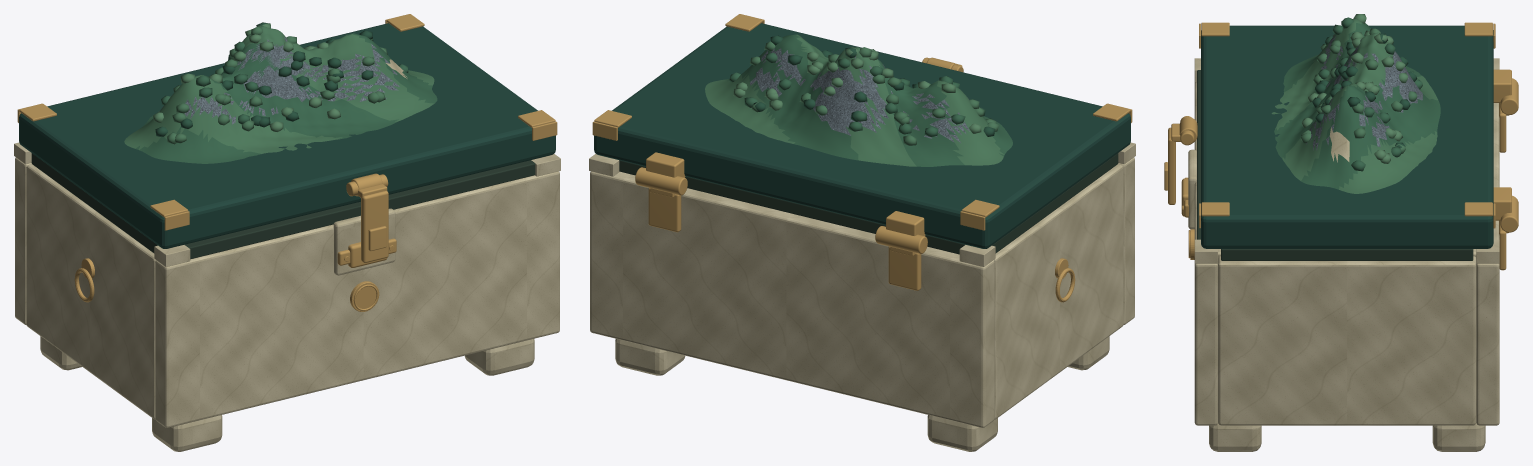
File: jamaica.glb
3 views of the same model, side by side, from view 1: azimuth 30°, elevation 25°; view 2: azimuth 150°, elevation 25°; view 3: azimuth 270°, elevation 25° (orthographic).
Visible parts, largest first — view 1: Limestone / long wall, Lid / polished slab, Terrain / Blue and John Crow relief, Limestone / end wall, Mineral seam / long, Limestone / long wall.001, Limestone / carved foot, Limestone / carved foot.002, Latch / lifting hasp, Limestone / clasp seat, Mineral seam / side, Limestone / rim corner (+2 smaller); view 2: Limestone / long wall.001, Lid / polished slab, Limestone / end wall, Terrain / Blue and John Crow relief, Mineral seam / long.001, Limestone / long wall, Limestone / carved foot.001, Limestone / carved foot.003, Mineral seam / side, Hinge / fixed mount.001, Hinge / fixed mount, Hinge / fixed barrel.001 (+6 smaller); view 3: Lid / polished slab, Limestone / end wall.001, Terrain / Blue and John Crow relief, Limestone / long wall.001, Limestone / long wall, Mineral seam / side.001, Limestone / carved foot.003, Limestone / carved foot.002, Mineral seam / long, Limestone / clasp seat, Hinge / moving leaf, Latch / lifting hasp (+9 smaller).
Boxes of the visible parts, x1,y1,x2,y2 form: Limestone / long wall: (155,171,559,427); Lid / polished slab: (19,23,555,248); Terrain / Blue and John Crow relief: (124,26,437,163); Limestone / end wall: (26,164,155,419); Mineral seam / long: (184,160,535,259); Limestone / long wall.001: (15,157,31,325); Limestone / carved foot: (152,415,222,451); Limestone / carved foot.002: (464,339,534,375); Latch / lifting hasp: (361,191,388,262); Limestone / clasp seat: (333,208,395,275); Mineral seam / side: (31,153,157,253); Limestone / rim corner: (154,245,190,266); Limestone / long wall.001: (590,171,994,427); Lid / polished slab: (594,23,1130,248); Limestone / end wall: (994,164,1123,419); Terrain / Blue and John Crow relief: (705,34,1012,166); Mineral seam / long.001: (619,160,965,254); Limestone / long wall: (1118,157,1134,325); Limestone / carved foot.001: (927,415,997,451); Limestone / carved foot.003: (615,339,685,375); Mineral seam / side: (992,153,1118,253); Hinge / fixed mount.001: (648,188,681,232); Hinge / fixed mount: (888,246,921,290); Hinge / fixed barrel.001: (635,167,687,195); Lid / polished slab: (1201,25,1493,248); Limestone / end wall.001: (1218,256,1476,425); Terrain / Blue and John Crow relief: (1271,18,1440,193); Limestone / long wall.001: (1476,103,1499,425); Limestone / long wall: (1194,82,1217,425); Mineral seam / side.001: (1221,249,1473,260); Limestone / carved foot.003: (1432,423,1485,451); Limestone / carved foot.002: (1209,423,1261,451); Mineral seam / long: (1197,70,1200,239); Limestone / clasp seat: (1188,149,1196,229); Hinge / moving leaf: (1493,69,1511,102); Latch / lifting hasp: (1168,127,1175,204).
Bounding box in the file's own units: 3.79 × 2.96 × 2.88.
9 materials, 2 textured.
